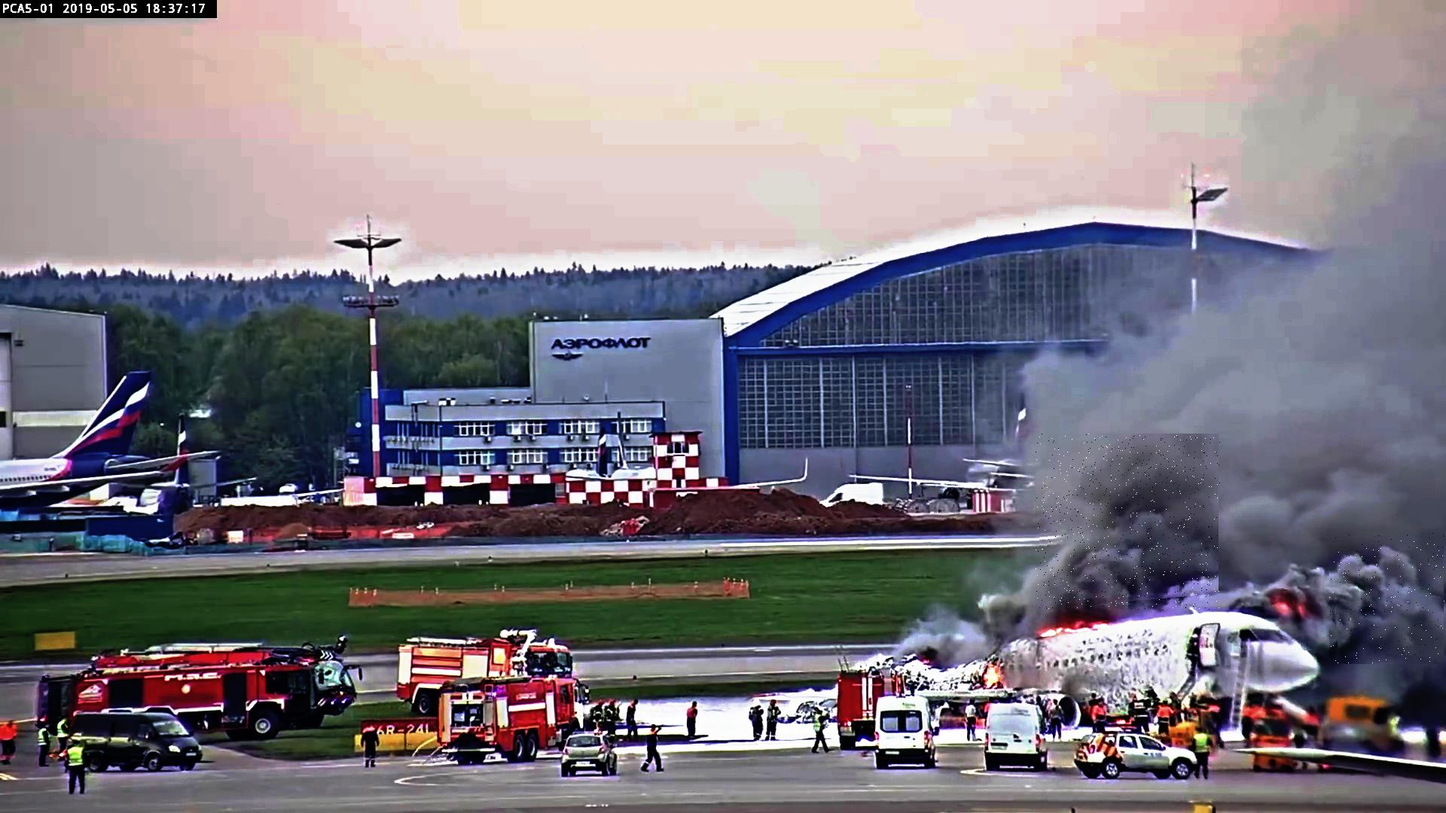smoke: (1036, 434, 1221, 610), (1330, 533, 1446, 664)
